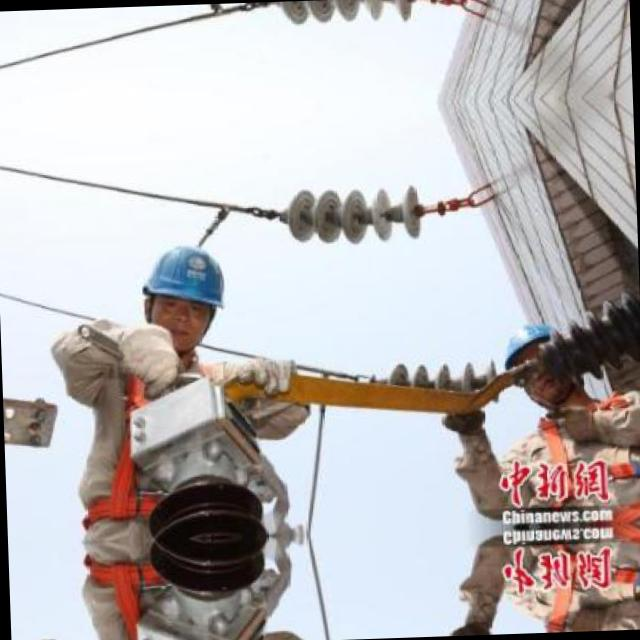helmet: (132, 226, 235, 358), (500, 320, 574, 401)
